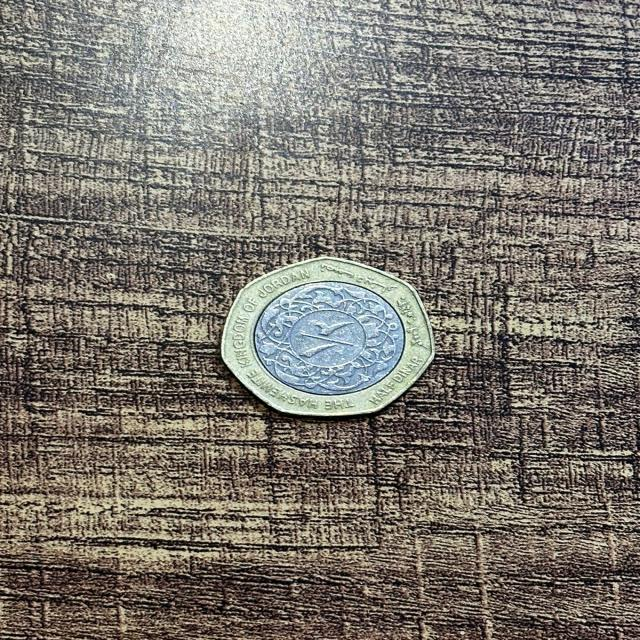50-coins: (219, 256, 436, 417)
